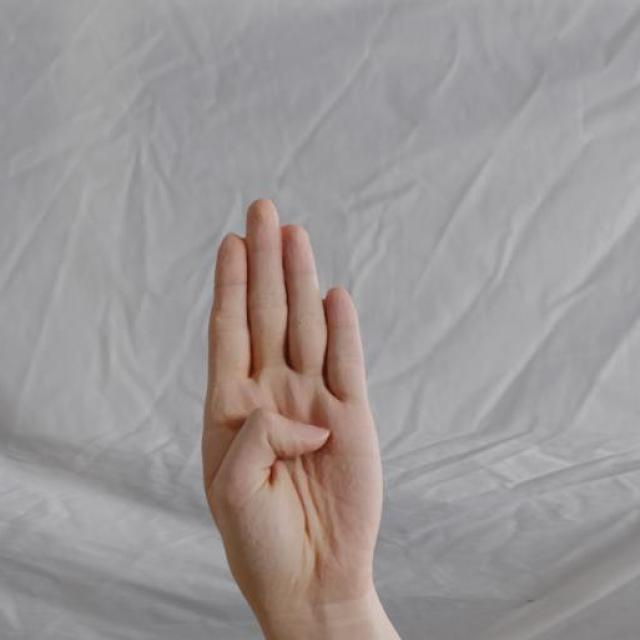B: (157, 175, 426, 640)
